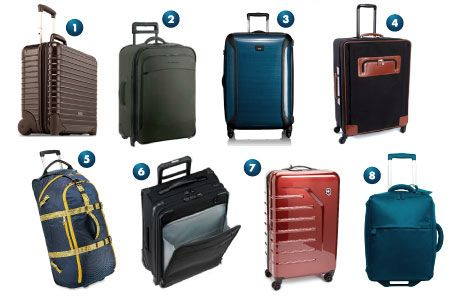backpack: (30, 149, 121, 292)
luggage: (139, 159, 242, 285), (15, 2, 101, 142), (359, 151, 445, 289), (328, 3, 412, 144), (218, 9, 300, 146), (111, 21, 200, 146), (262, 163, 341, 290)
